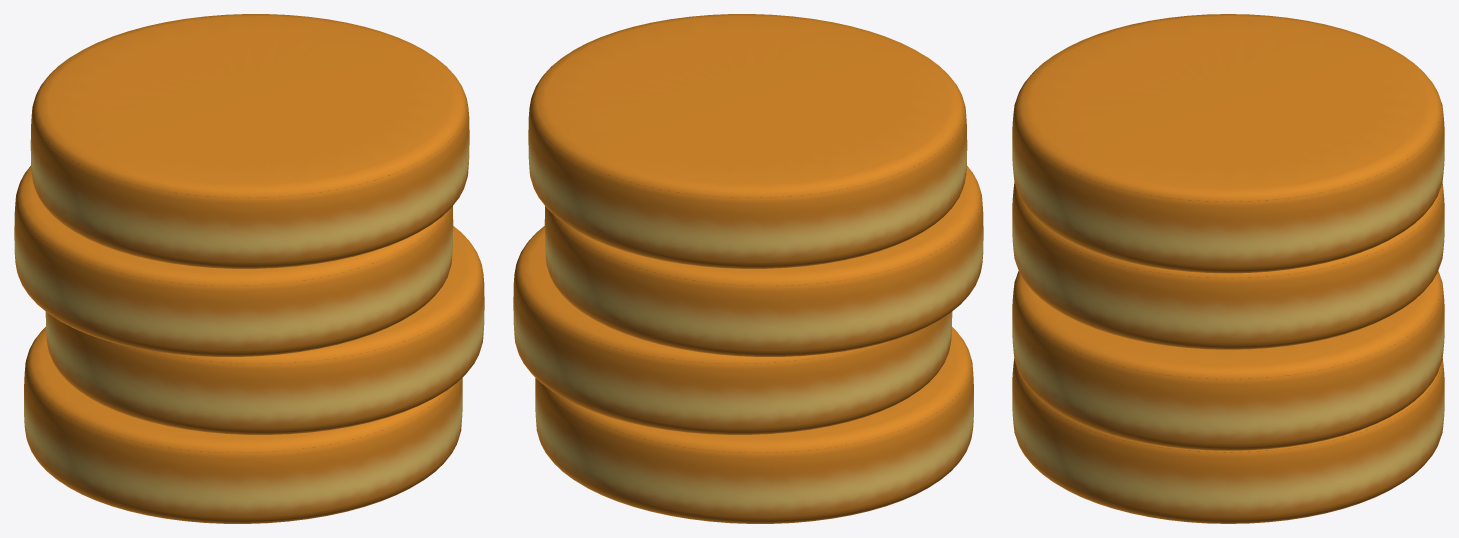
The model's file is 4HotcakesPilePrefab.obj.
3 views of the same model, side by side, from view 1: azimuth 30°, elevation 25°; view 2: azimuth 150°, elevation 25°; view 3: azimuth 270°, elevation 25° (orthographic).
Visible parts, largest first — view 1: HotCake.009, HotCake.006, HotCake.008, HotCake.007; view 2: HotCake.009, HotCake.006, HotCake.008, HotCake.007; view 3: HotCake.009, HotCake.007, HotCake.008, HotCake.006.
Part boxes in pixels (x1,y1,x2,y2): HotCake.009: [30, 14, 469, 268]; HotCake.006: [24, 327, 462, 523]; HotCake.008: [14, 166, 453, 356]; HotCake.007: [45, 226, 484, 434]; HotCake.009: [528, 14, 967, 268]; HotCake.006: [535, 327, 973, 523]; HotCake.008: [544, 166, 983, 356]; HotCake.007: [513, 226, 952, 434]; HotCake.009: [1012, 14, 1444, 273]; HotCake.007: [1012, 271, 1444, 450]; HotCake.008: [1012, 182, 1444, 349]; HotCake.006: [1012, 358, 1444, 523].
Size of the model in its own units: 4.96 by 3.87 by 4.48.
